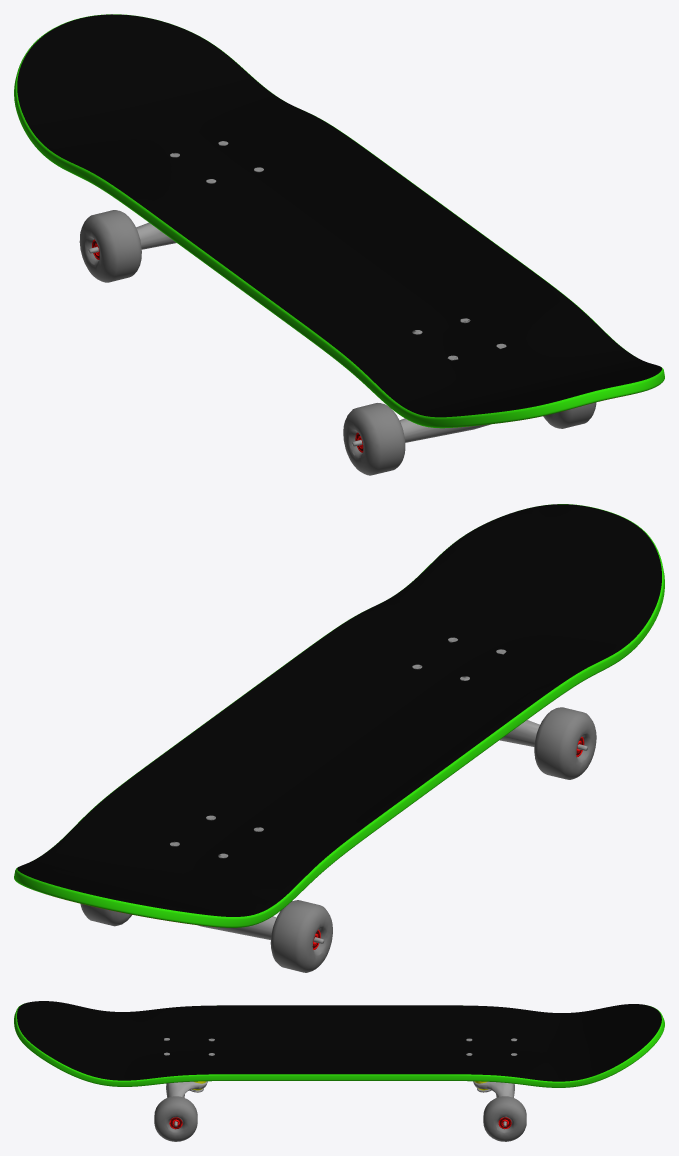
Rendered from deck.glb.
3 renders of one model, top to bottom at view 1: azimuth 30°, elevation 25°; view 2: azimuth 150°, elevation 25°; view 3: azimuth 270°, elevation 25°, orthographic. The views are drawn at different scales.
Visible parts, largest first — view 1: deck, wheel_FR, wheel_BR, hanger_F, wheel_FL, hanger_B; view 2: deck, wheel_FR, wheel_BR, hanger_B, hanger_F; view 3: deck, wheel_BL, wheel_FL, hanger_F, hanger_B.
Part boxes in pixels (box(x1,y1,x2,y2)): deck: box(14, 14, 664, 428); wheel_FR: box(343, 403, 405, 475); wheel_BR: box(79, 210, 141, 282); hanger_F: box(352, 418, 490, 446); wheel_FL: box(543, 402, 596, 428); hanger_B: box(88, 222, 176, 253); deck: box(14, 504, 664, 927); wheel_FR: box(534, 707, 596, 779); wheel_BR: box(270, 900, 332, 972); hanger_B: box(198, 916, 324, 943); hanger_F: box(500, 720, 587, 750); deck: box(14, 1001, 664, 1087); wheel_BL: box(483, 1096, 526, 1141); wheel_FL: box(154, 1096, 197, 1141); hanger_F: box(166, 1081, 207, 1126); hanger_B: box(473, 1081, 514, 1126).
Size of the model in its own units: 0.211 by 0.1287 by 0.8111.
